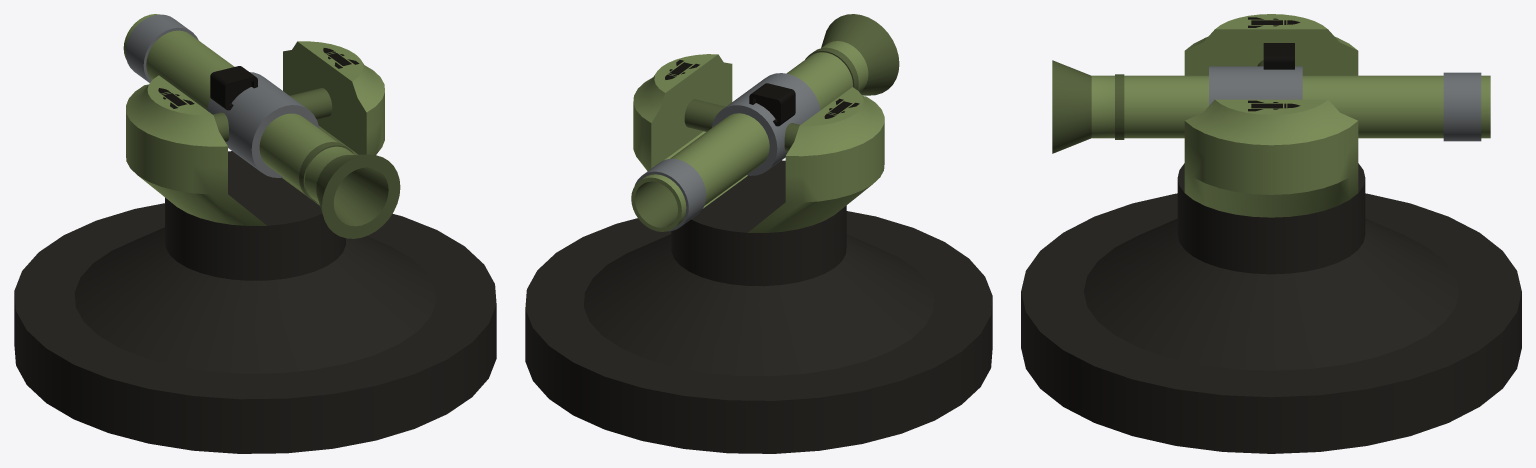
The model's file is bomber_L1.fbx.
3 renders of one model, left to right at view 1: azimuth 30°, elevation 25°; view 2: azimuth 150°, elevation 25°; view 3: azimuth 270°, elevation 25°, orthographic. The views are drawn at different scales.
Visible parts, largest first — view 1: Circle, Cylinder, Cylinder.001, Cube, Cylinder.002, Plane.008; view 2: Circle, Cylinder, Cylinder.001, Cube, Cylinder.002, Plane.008; view 3: Circle, Cylinder.001, Cylinder, Cube, Plane.008.
Part boxes in pixels (left/top/right/bottom): Circle: left=14, top=151, right=496, bottom=453; Cylinder: left=123, top=14, right=400, bottom=238; Cylinder.001: left=126, top=41, right=384, bottom=225; Cube: left=210, top=66, right=257, bottom=110; Cylinder.002: left=212, top=88, right=332, bottom=142; Plane.008: left=158, top=48, right=359, bottom=108; Circle: left=525, top=160, right=992, bottom=453; Cylinder: left=631, top=14, right=899, bottom=231; Cylinder.001: left=633, top=54, right=884, bottom=232; Cube: left=749, top=83, right=795, bottom=126; Cylinder.002: left=684, top=99, right=799, bottom=151; Plane.008: left=665, top=60, right=859, bottom=118; Circle: left=1021, top=163, right=1521, bottom=453; Cylinder.001: left=1184, top=14, right=1358, bottom=217; Cylinder: left=1052, top=60, right=1490, bottom=153; Cube: left=1263, top=43, right=1294, bottom=69; Plane.008: left=1248, top=17, right=1300, bottom=111.
Bounding box in the file's own units: 160 × 102 × 160.
